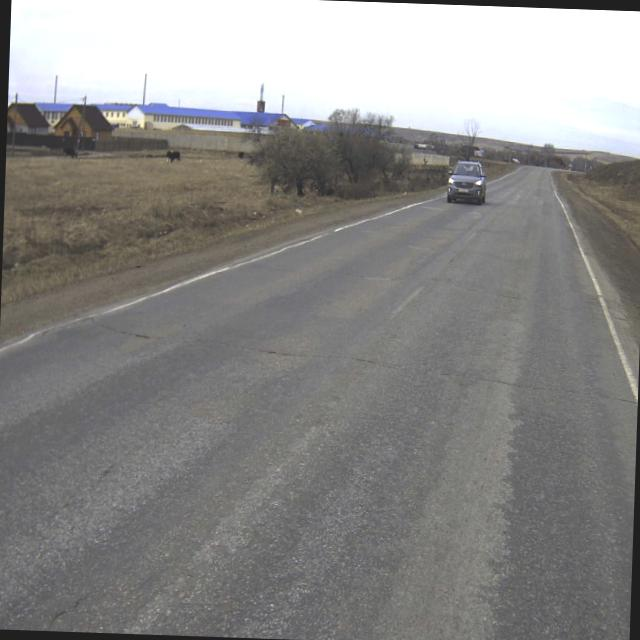road: (0, 166, 638, 640)
